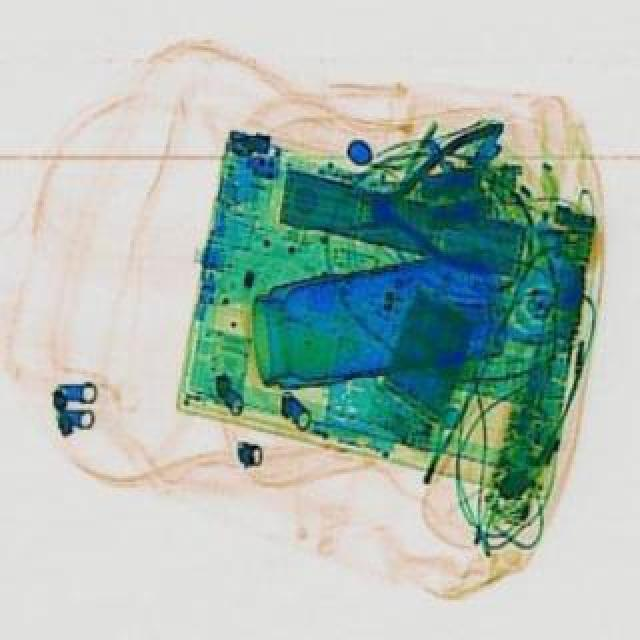wrench: (338, 120, 510, 276)
